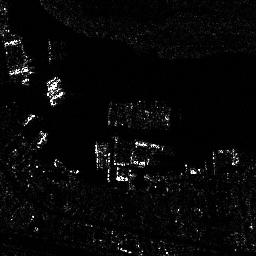ship: (131, 137, 165, 151)
